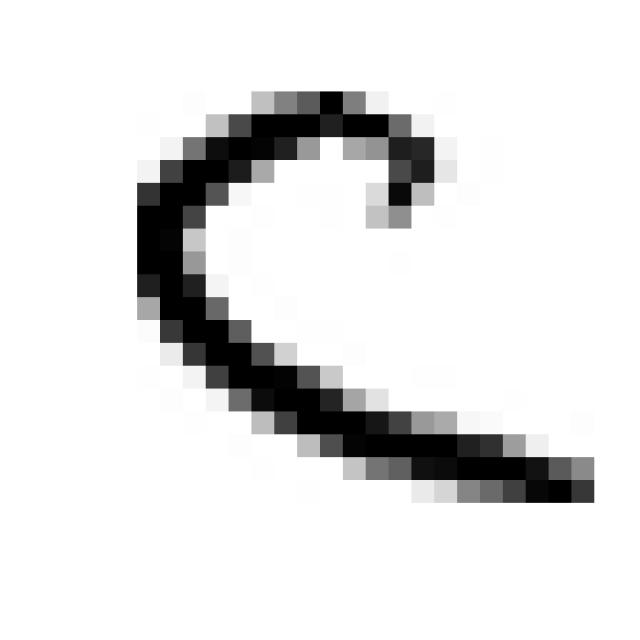2 -two-: (119, 76, 610, 524)
